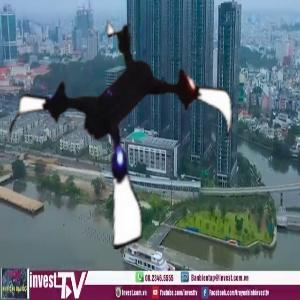drone: (6, 13, 244, 251)
